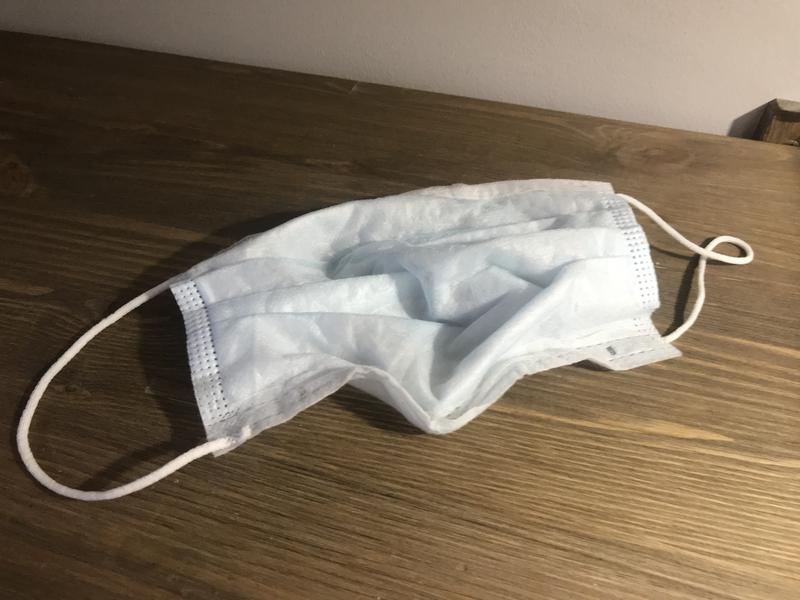medical_mask: (14, 179, 754, 501)
